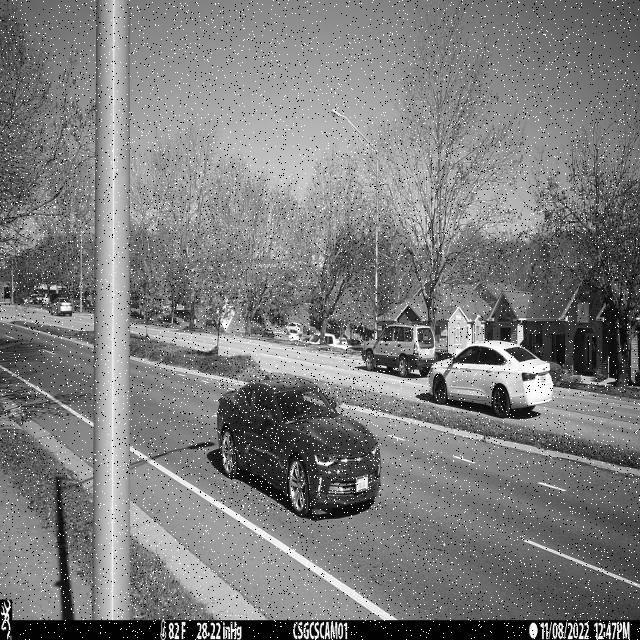Sedan: (217, 374, 381, 516)
